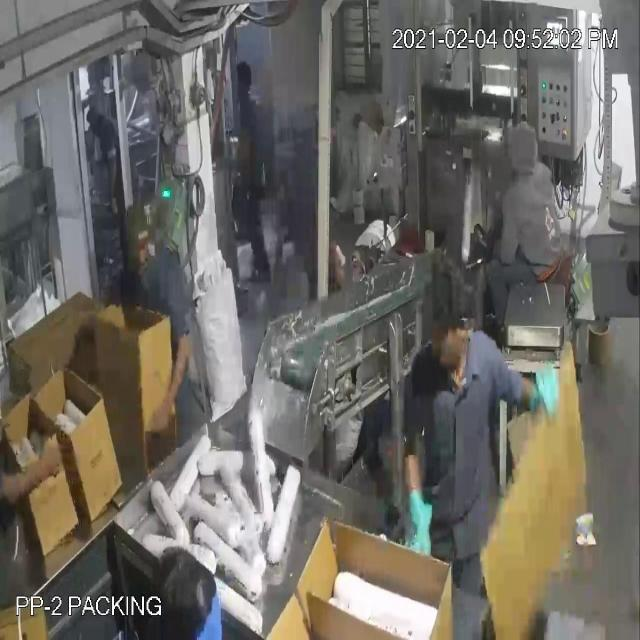No_Gloves: (34, 70, 542, 515)
